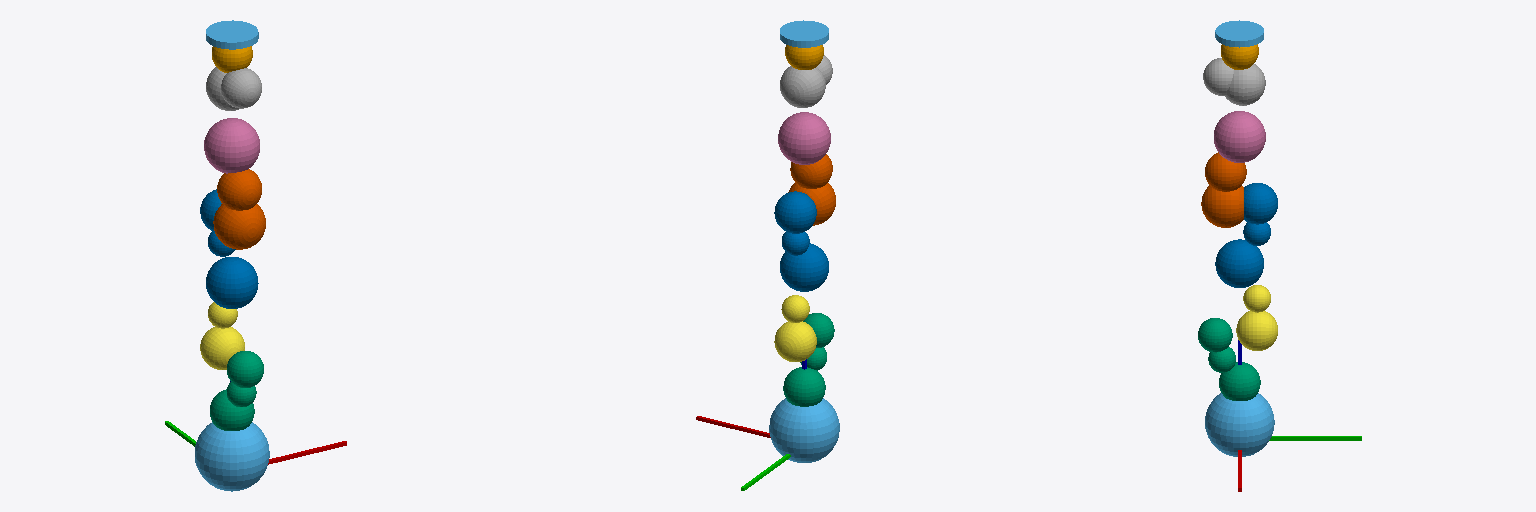
robot.urdf — iiwa7:
<?xml version="1.0" ?>
<!-- =================================================================================== -->
<!-- |    This document was autogenerated by xacro from iiwa_description/urdf/iiwa7.urdf.xacro | -->
<!-- |    EDITING THIS FILE BY HAND IS NOT RECOMMENDED                                 | -->
<!-- =================================================================================== -->
<robot name="iiwa7" xmlns:xacro="http://www.ros.org/wiki/xacro">
  <material name="Black">
    <color rgba="0.0 0.0 0.0 1.0"/>
  </material>
  <material name="Blue">
    <color rgba="0.0 0.0 0.8 1.0"/>
  </material>
  <material name="Green">
    <color rgba="0.0 0.8 0.0 1.0"/>
  </material>
  <material name="Grey">
    <color rgba="0.4 0.4 0.4 1.0"/>
  </material>
  <material name="Orange">
    <color rgba="1.0 0.423529411765 0.0392156862745 1.0"/>
  </material>
  <material name="Brown">
    <color rgba="0.870588235294 0.811764705882 0.764705882353 1.0"/>
  </material>
  <material name="Red">
    <color rgba="0.8 0.0 0.0 1.0"/>
  </material>
  <material name="White">
    <color rgba="1.0 1.0 1.0 1.0"/>
  </material>
  <!-- Fix to world just for testing -->
  <link name="base"/>
  <!--joint between {parent} and link_0-->
  <joint name="world_iiwa_joint" type="fixed">
    <origin rpy="0 0 0" xyz="0 0 0"/>
    <parent link="base"/>
    <child link="iiwa_link_0"/>
  </joint>
  <link name="iiwa_link_0">
    <inertial>
      <origin rpy="0 0 0" xyz="-0.1 0 0.07"/>
      <mass value="5"/>
      <inertia ixx="0.05" ixy="0" ixz="0" iyy="0.06" iyz="0" izz="0.03"/>
    </inertial>
    <visual>
      <origin rpy="0 0 0" xyz="0 0 0"/>
      <geometry>
        <mesh filename="../meshes/iiwa7/visual/link_0.stl"/>
      </geometry>
      <material name="Grey"/>
    </visual>
    <visual>
      <origin rpy="0 0 0" xyz="0.175 0 0"/>
      <geometry>
        <box size="0.35 0.01 0.01"/>
      </geometry>
      <material name="Red"/>
    </visual>
    <visual>
      <origin rpy="0 0 0" xyz="0 0.175 0"/>
      <geometry>
        <box size="0.01 0.35 0.01"/>
      </geometry>
      <material name="Green"/>
    </visual>
    <visual>
      <origin rpy="0 0 0" xyz="0 0 0.175"/>
      <geometry>
        <box size="0.01 0.01 0.35"/>
      </geometry>
      <material name="Blue"/>
    </visual>
    
    <visual>
      <origin rpy="0 0 0" xyz="0 0 0.05"/>
      <geometry>
        <sphere radius="0.1"/>
      </geometry>
    </visual>
    <collision>
      <origin rpy="0 0 0" xyz="0 0 0.05"/>
      <geometry>
        <sphere radius="0.1"/>
      </geometry>
    </collision>
    
  </link>
  <!-- joint between link_0 and link_1 -->
  <joint name="iiwa_joint_1" type="revolute">
    <parent link="iiwa_link_0"/>
    <child link="iiwa_link_1"/>
    <origin rpy="0 0 0" xyz="0 0 0.15"/>
    <axis xyz="0 0 1"/>
    <limit effort="300" lower="-2.96705972839" upper="2.96705972839" velocity="10"/>
    <safety_controller k_position="100" k_velocity="2" soft_lower_limit="-2.93215314335" soft_upper_limit="2.93215314335"/>
    <dynamics damping="0.5"/>
  </joint>
  <link name="iiwa_link_1">
    <inertial>
      <origin rpy="0 0 0" xyz="0 -0.03 0.12"/>
      <mass value="3.4525"/>
      <inertia ixx="0.02183" ixy="0" ixz="0" iyy="0.007703" iyz="-0.003887" izz="0.02083"/>
    </inertial>
    <visual>
      <origin rpy="0 0 0" xyz="0 0 0.0075"/>
      <geometry>
        <mesh filename="../meshes/iiwa7/visual/link_1.stl"/>
      </geometry>
      <material name="Orange"/>
    </visual>
    
    <visual>
      <origin rpy="0 0 0" xyz="0 0 0.025"/>
      <geometry>
        <sphere radius="0.06"/>
      </geometry>
    </visual>
    <visual>
      <origin rpy="0 0 0" xyz="0 -0.05 0.1"/>
      <geometry>
        <sphere radius="0.04"/>
      </geometry>
    </visual>
    <visual>
      <origin rpy="0 0 0" xyz="0 -0.07 0.175"/>
      <geometry>
        <sphere radius="0.05"/>
      </geometry>
    </visual>
    
    <collision>
      <origin rpy="0 0 0" xyz="0 0 0.025"/>
      <geometry>
        <sphere radius="0.06"/>
      </geometry>
    </collision>
    <collision>
      <origin rpy="0 0 0" xyz="0 -0.05 0.1"/>
      <geometry>
        <sphere radius="0.04"/>
      </geometry>
    </collision>
    <collision>
      <origin rpy="0 0 0" xyz="0 -0.07 0.175"/>
      <geometry>
        <sphere radius="0.05"/>
      </geometry>
    </collision>
    
  </link>
  <joint name="iiwa_joint_2" type="revolute">
    <parent link="iiwa_link_1"/>
    <child link="iiwa_link_2"/>
    <origin rpy="1.57079632679   0 3.14159265359" xyz="0 0 0.19"/>
    <axis xyz="0 0 1"/>
    <limit effort="300" lower="-2.09439510239" upper="2.09439510239" velocity="10"/>
    <safety_controller k_position="100" k_velocity="2" soft_lower_limit="-2.05948851735" soft_upper_limit="2.05948851735"/>
    <dynamics damping="0.5"/>
  </joint>
  <link name="iiwa_link_2">
    <inertial>
      <origin rpy="0 0 0" xyz="0.0003 0.059 0.042"/>
      <mass value="3.4821"/>
      <inertia ixx="0.02076" ixy="0" ixz="-0.003626" iyy="0.02179" iyz="0" izz="0.00779"/>
    </inertial>
    <visual>
      <origin rpy="0 0 0" xyz="0 0 0"/>
      <geometry>
        <mesh filename="../meshes/iiwa7/visual/link_2.stl"/>
      </geometry>
      <material name="Orange"/>
    </visual>
    
    <visual>
      <origin rpy="0 0 0" xyz="0 0 0.05"/>
      <geometry>
        <sphere radius="0.06"/>
      </geometry>
    </visual>
    <visual>
      <origin rpy="0 0 0" xyz="0 0.1 0.05"/>
      <geometry>
        <sphere radius="0.04"/>
      </geometry>
    </visual>
    
    <collision>
      <origin rpy="0 0 0" xyz="0 0 0.05"/>
      <geometry>
        <sphere radius="0.06"/>
      </geometry>
    </collision>
    <collision>
      <origin rpy="0 0 0" xyz="0 0.1 0.05"/>
      <geometry>
        <sphere radius="0.04"/>
      </geometry>
    </collision>
    
  </link>
  <joint name="iiwa_joint_3" type="revolute">
    <parent link="iiwa_link_2"/>
    <child link="iiwa_link_3"/>
    <origin rpy="1.57079632679 0 3.14159265359" xyz="0 0.21 0"/>
    <axis xyz="0 0 1"/>
    <limit effort="300" lower="-2.96705972839" upper="2.96705972839" velocity="10"/>
    <safety_controller k_position="100" k_velocity="2" soft_lower_limit="-2.93215314335" soft_upper_limit="2.93215314335"/>
    <dynamics damping="0.5"/>
  </joint>
  <link name="iiwa_link_3">
    <inertial>
      <origin rpy="0 0 0" xyz="0 0.03 0.13"/>
      <mass value="4.05623"/>
      <inertia ixx="0.03204" ixy="0" ixz="0" iyy="0.00972" iyz="0.006227" izz="0.03042"/>
    </inertial>
    <visual>
      <origin rpy="0 0 0" xyz="0 0 -0.026"/>
      <geometry>
        <mesh filename="../meshes/iiwa7/visual/link_3.stl"/>
      </geometry>
      <material name="Orange"/>
    </visual>
    
    <visual>
      <origin rpy="0 0 0" xyz="0 0 0.0"/>
      <geometry>
        <sphere radius="0.07"/>
      </geometry>
    </visual>
    <visual>
      <origin rpy="0 0 0" xyz="0 0.05 0.19"/>
      <geometry>
        <sphere radius="0.06"/>
      </geometry>
    </visual>
    <visual>
      <origin rpy="0 0 0" xyz="0 0.05 0.1"/>
      <geometry>
        <sphere radius="0.04"/>
      </geometry>
    </visual>
    
    <collision>
      <origin rpy="0 0 0" xyz="0 0 0.0"/>
      <geometry>
        <sphere radius="0.07"/>
      </geometry>
    </collision>
    <collision>
      <origin rpy="0 0 0" xyz="0 0.05 0.19"/>
      <geometry>
        <sphere radius="0.06"/>
      </geometry>
    </collision>
    <collision>
      <origin rpy="0 0 0" xyz="0 0.05 0.1"/>
      <geometry>
        <sphere radius="0.04"/>
      </geometry>
    </collision>
    

  </link>
  <joint name="iiwa_joint_4" type="revolute">
    <parent link="iiwa_link_3"/>
    <child link="iiwa_link_4"/>
    <origin rpy="1.57079632679 0 0" xyz="0 0 0.19"/>
    <axis xyz="0 0 1"/>
    <limit effort="300" lower="-2.09439510239" upper="2.09439510239" velocity="10"/>
    <safety_controller k_position="100" k_velocity="2" soft_lower_limit="-2.05948851735" soft_upper_limit="2.05948851735"/>
    <dynamics damping="0.5"/>
  </joint>
  <link name="iiwa_link_4">
    <inertial>
      <origin rpy="0 0 0" xyz="0 0.067 0.034"/>
      <mass value="3.4822"/>
      <inertia ixx="0.02178" ixy="0" ixz="0" iyy="0.02075" iyz="-0.003625" izz="0.007785"/>
    </inertial>
    <visual>
      <origin rpy="0 0 0" xyz="0 0 0"/>
      <geometry>
        <mesh filename="../meshes/iiwa7/visual/link_4.stl"/>
      </geometry>
      <material name="Orange"/>
    </visual>
    
    <visual>
      <origin rpy="0 0 0" xyz="0 0 0.04"/>
      <geometry>
        <sphere radius="0.07"/>
      </geometry>
    </visual>
    <visual>
      <origin rpy="0 0 0" xyz="0 0.1 0.04"/>
      <geometry>
        <sphere radius="0.06"/>
      </geometry>
    </visual>
    <collision>
      <origin rpy="0 0 0" xyz="0 0 0.04"/>
      <geometry>
        <sphere radius="0.07"/>
      </geometry>
    </collision>
    <collision>
      <origin rpy="0 0 0" xyz="0 0.1 0.04"/>
      <geometry>
        <sphere radius="0.06"/>
      </geometry>
    </collision>
  </link>
  <joint name="iiwa_joint_5" type="revolute">
    <parent link="iiwa_link_4"/>
    <child link="iiwa_link_5"/>
    <origin rpy="-1.57079632679 3.14159265359 0" xyz="0 0.21 0"/>
    <axis xyz="0 0 1"/>
    <limit effort="300" lower="-2.96705972839" upper="2.96705972839" velocity="10"/>
    <safety_controller k_position="100" k_velocity="2" soft_lower_limit="-2.93215314335" soft_upper_limit="2.93215314335"/>
    <dynamics damping="0.5"/>
  </joint>
  <link name="iiwa_link_5">
    <inertial>
      <origin rpy="0 0 0" xyz="0.0001 0.021 0.076"/>
      <mass value="2.1633"/>
      <inertia ixx="0.01287" ixy="0" ixz="0" iyy="0.005708" iyz="-0.003946" izz="0.01112"/>
    </inertial>
    <visual>
      <origin rpy="0 0 0" xyz="0 0 -0.026"/>
      <geometry>
        <mesh filename="../meshes/iiwa7/visual/link_5.stl"/>
      </geometry>
      <material name="Orange"/>
    </visual>
    <visual>
      <origin rpy="0 0 0" xyz="0 0 0.0"/>
      <geometry>
        <sphere radius="0.075"/>
      </geometry>
    </visual>
    <collision>
      <origin rpy="0 0 0" xyz="0 0 0.0"/>
      <geometry>
        <sphere radius="0.075"/>
      </geometry>
    </collision>
  </link>
  <joint name="iiwa_joint_6" type="revolute">
    <parent link="iiwa_link_5"/>
    <child link="iiwa_link_6"/>
    <origin rpy="1.57079632679 0 0" xyz="0 0.06070 0.19"/>
    <axis xyz="0 0 1"/>
    <limit effort="300" lower="-2.09439510239" upper="2.09439510239" velocity="10"/>
    <safety_controller k_position="100" k_velocity="2" soft_lower_limit="-2.05948851735" soft_upper_limit="2.05948851735"/>
    <dynamics damping="0.5"/>
  </joint>
  <link name="iiwa_link_6">
    <inertial>
      <origin rpy="0 0 0" xyz="0 0.0006 0.0004"/>
      <mass value="2.3466"/>
      <inertia ixx="0.006509" ixy="0" ixz="0" iyy="0.006259" iyz="0.00031891" izz="0.004527"/>
    </inertial>
    <visual>
      <origin rpy="0 0 0" xyz="0 0 0"/>
      <geometry>
        <mesh filename="../meshes/iiwa7/visual/link_6.stl"/>
      </geometry>
      <material name="Orange"/>
    </visual>

    <visual>
      <origin rpy="0 0 0" xyz="0 -0.02 0.07"/>
      <geometry>
        <sphere radius="0.065"/>
      </geometry>
    </visual>
    <visual>
      <origin rpy="0 0 0" xyz="0 0 0.011"/>
      <geometry>
        <sphere radius="0.055"/>
      </geometry>
    </visual>
    <collision>
      <origin rpy="0 0 0" xyz="0 -0.02 0.07"/>
      <geometry>
        <sphere radius="0.065"/>
      </geometry>
    </collision>
    <collision>
      <origin rpy="0 0 0" xyz="0 0 0.011"/>
      <geometry>
        <sphere radius="0.055"/>
      </geometry>
    </collision>
  </link>
  <joint name="iiwa_joint_7" type="revolute">
    <parent link="iiwa_link_6"/>
    <child link="iiwa_link_7"/>
    <origin rpy="-1.57079632679 3.14159265359 0" xyz="0 0.081 0.06070"/>
    <axis xyz="0 0 1"/>
    <limit effort="300" lower="-3.05432619099" upper="3.05432619099" velocity="10"/>
    <safety_controller k_position="100" k_velocity="2" soft_lower_limit="-3.01941960595" soft_upper_limit="3.01941960595"/>
    <dynamics damping="0.5"/>
  </joint>
  <link name="iiwa_link_7">
    <inertial>
      <origin rpy="0 0 0" xyz="0 0 0.02"/>
      <mass value="3.129"/>
      <inertia ixx="0.01464" ixy="0.0005912" ixz="0" iyy="0.01465" iyz="0" izz="0.002872"/>
    </inertial>
    <visual>
      <origin rpy="0 0 0" xyz="0 0 -0.0005"/>
      <geometry>
        <mesh filename="../meshes/iiwa7/visual/link_7.stl"/>
      </geometry>
      <material name="Grey"/>
    </visual>
    <collision>
      <geometry>
        <sphere radius="0.055"/>
      </geometry>
    </collision>
    <visual>
      <geometry>
        <sphere radius="0.055"/>
      </geometry>
    </visual>
  </link>
  <joint name="iiwa_joint_ee" type="fixed">
    <parent link="iiwa_link_7"/>
    <child link="iiwa_link_ee"/>
    <origin rpy="0 0 0" xyz="0 0 0.045"/>
  </joint>
  <link name="iiwa_link_ee">
    <visual>
      <origin rpy="0 0 0" xyz="0 0 0.009"/>
      <geometry>
        <cylinder length="0.02" radius="0.07"/>
      </geometry>
    </visual>
    <collision>
      <origin rpy="0 0 0" xyz="0 0 0.009"/>
      <geometry>
        <cylinder length="0.02" radius="0.07"/>
      </geometry>
    </collision>
  </link>
</robot>

--- Render facts (derived) ---
Views: 3 orthographic renders of the robot side by side, from view 1: azimuth 30°, elevation 25°; view 2: azimuth 150°, elevation 25°; view 3: azimuth 270°, elevation 25°.
Model iiwa7 with 10 links and 9 joints (7 revolute, 2 fixed), rooted at base, posed every joint at zero.
Visible links, largest first — view 1: iiwa_link_0, iiwa_link_4, iiwa_link_3, iiwa_link_1, iiwa_link_5, iiwa_link_6, iiwa_link_2, iiwa_link_ee, iiwa_link_7; view 2: iiwa_link_0, iiwa_link_3, iiwa_link_1, iiwa_link_5, iiwa_link_2, iiwa_link_4, iiwa_link_6, iiwa_link_ee, iiwa_link_7; view 3: iiwa_link_0, iiwa_link_3, iiwa_link_1, iiwa_link_4, iiwa_link_5, iiwa_link_6, iiwa_link_2, iiwa_link_ee, iiwa_link_7.
Boxes of the visible links, x1=… form: iiwa_link_0: x1=165, y1=381, x2=346, y2=491; iiwa_link_4: x1=213, y1=169, x2=265, y2=249; iiwa_link_3: x1=200, y1=189, x2=258, y2=308; iiwa_link_1: x1=210, y1=351, x2=263, y2=430; iiwa_link_5: x1=204, y1=118, x2=259, y2=173; iiwa_link_6: x1=206, y1=67, x2=261, y2=110; iiwa_link_2: x1=200, y1=302, x2=244, y2=369; iiwa_link_ee: x1=206, y1=20, x2=258, y2=49; iiwa_link_7: x1=212, y1=46, x2=252, y2=72; iiwa_link_0: x1=696, y1=359, x2=839, y2=490; iiwa_link_3: x1=774, y1=191, x2=828, y2=291; iiwa_link_1: x1=783, y1=313, x2=834, y2=406; iiwa_link_5: x1=778, y1=112, x2=830, y2=164; iiwa_link_2: x1=774, y1=295, x2=816, y2=361; iiwa_link_4: x1=788, y1=154, x2=835, y2=225; iiwa_link_6: x1=780, y1=55, x2=832, y2=107; iiwa_link_ee: x1=780, y1=20, x2=828, y2=47; iiwa_link_7: x1=785, y1=45, x2=823, y2=69; iiwa_link_0: x1=1205, y1=340, x2=1361, y2=491; iiwa_link_3: x1=1215, y1=183, x2=1277, y2=287; iiwa_link_1: x1=1198, y1=318, x2=1260, y2=400; iiwa_link_4: x1=1201, y1=152, x2=1246, y2=227; iiwa_link_5: x1=1214, y1=111, x2=1265, y2=162; iiwa_link_6: x1=1203, y1=58, x2=1265, y2=105; iiwa_link_2: x1=1236, y1=285, x2=1277, y2=350; iiwa_link_ee: x1=1215, y1=20, x2=1263, y2=47; iiwa_link_7: x1=1221, y1=44, x2=1258, y2=69.
Bounding box of the posed robot: 0.45 × 0.47 × 1.33 m (x, y, z).
Meshes: 8 distinct files referenced, 0 mesh visuals loaded (none loaded); not drawn: 8 (reference not matched to a file when rendering).
